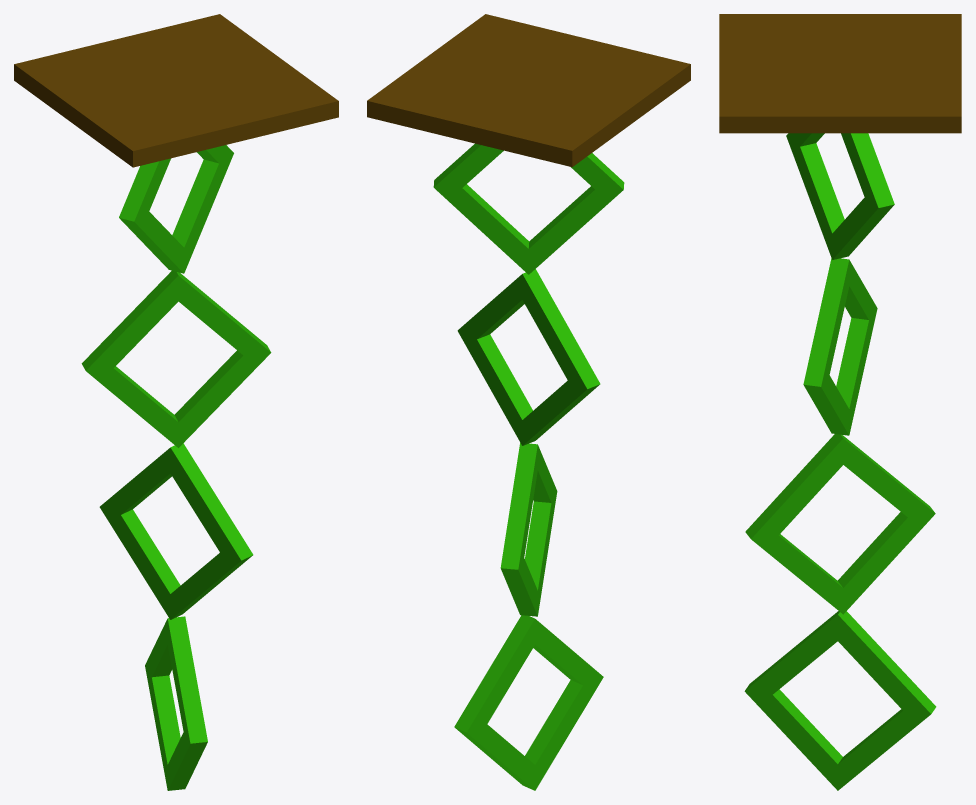
The model's file is DES_Roof_GeoShape.fbx.
3 views of the same model, side by side, from view 1: azimuth 30°, elevation 25°; view 2: azimuth 150°, elevation 25°; view 3: azimuth 270°, elevation 25° (orthographic). The views are drawn at different scales.
Parts seen in each view (by area): view 1: Roof_GeoBrokenPiece_2, Roof_GeoBrokenPiece_4, Roof_GeoBrokenPiece_3, Roof_GeoBrokenPiece_1, Roof_GeoBrokenPiece_5; view 2: Roof_GeoBrokenPiece_2, Roof_GeoBrokenPiece_1, Roof_GeoBrokenPiece_4, Roof_GeoBrokenPiece_5, Roof_GeoBrokenPiece_3; view 3: Roof_GeoBrokenPiece_2, Roof_GeoBrokenPiece_1, Roof_GeoBrokenPiece_3, Roof_GeoBrokenPiece_4, Roof_GeoBrokenPiece_5.
Part boxes in pixels (x1,y1,x2,y2): Roof_GeoBrokenPiece_2: (14, 14, 338, 167); Roof_GeoBrokenPiece_4: (81, 270, 271, 447); Roof_GeoBrokenPiece_3: (99, 443, 253, 619); Roof_GeoBrokenPiece_1: (145, 616, 207, 790); Roof_GeoBrokenPiece_5: (119, 145, 233, 273); Roof_GeoBrokenPiece_2: (367, 14, 690, 167); Roof_GeoBrokenPiece_1: (454, 615, 603, 790); Roof_GeoBrokenPiece_4: (457, 269, 600, 445); Roof_GeoBrokenPiece_5: (433, 143, 624, 274); Roof_GeoBrokenPiece_3: (500, 442, 557, 616); Roof_GeoBrokenPiece_2: (719, 14, 961, 133); Roof_GeoBrokenPiece_1: (744, 611, 936, 790); Roof_GeoBrokenPiece_3: (745, 434, 935, 614); Roof_GeoBrokenPiece_4: (803, 258, 877, 435); Roof_GeoBrokenPiece_5: (786, 133, 894, 259).
Bounding box in the file's own units: 0.1988 × 0.653 × 0.1988.
